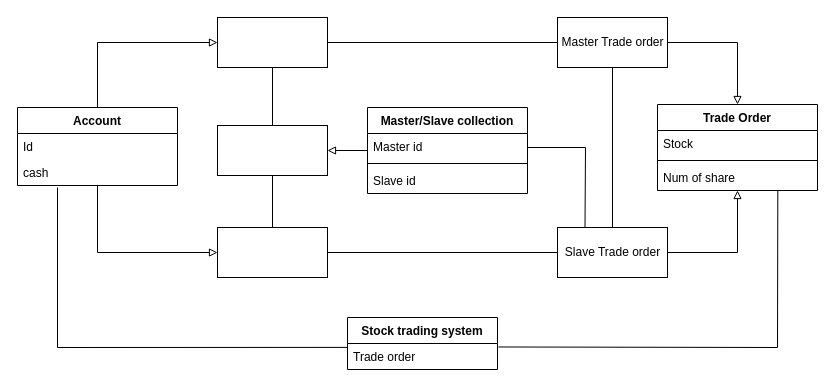
This 835x390 diagram has some shape labels left out. Here are the shapes that lost their labels. From the top down, the centre of each, then its label:
At (272,42): "Master".
At (272,150): "Choose or delete a Master to copy".
At (272,252): "Slave".
